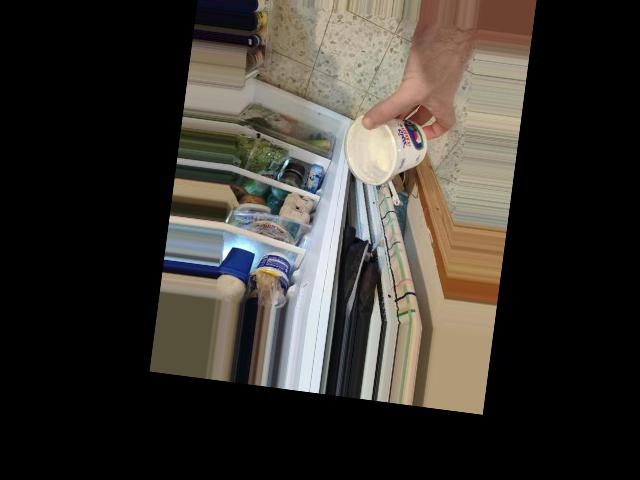cotage: (338, 99, 428, 187)
